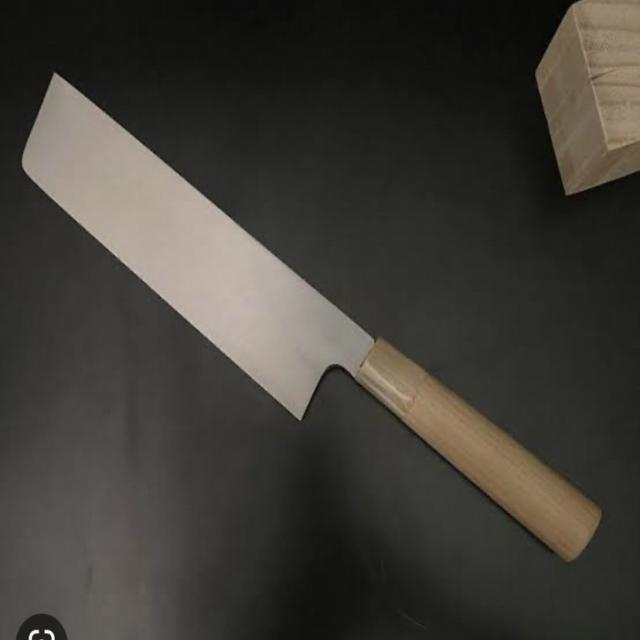Knife: (19, 72, 607, 569)
